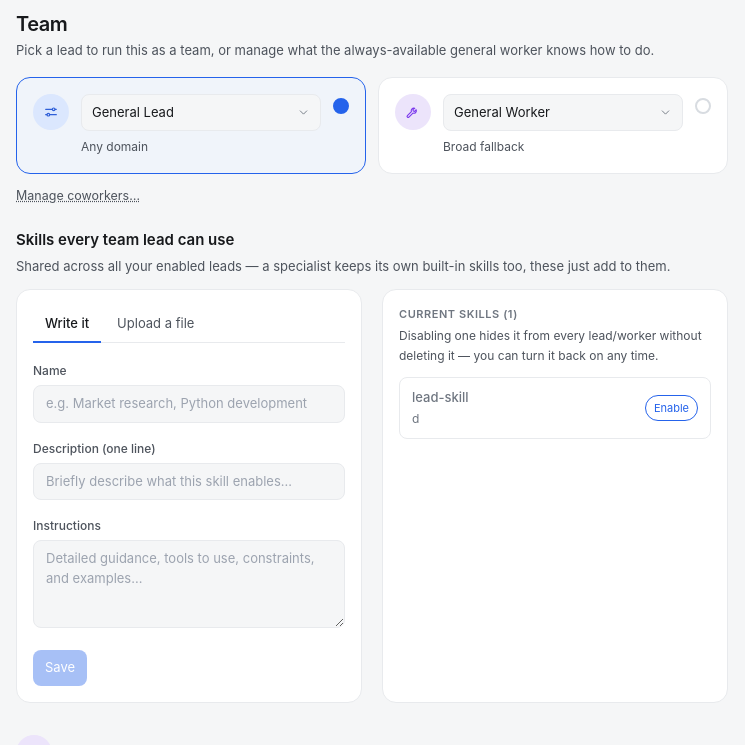
it: TeamPage › switching to the Worker role shows worker skills, not lead skills
The image size is (745, 745).
Expected: the text "lead-skill" is shown, [412,389,469,405]
Expected: the text "worker-skill" is not shown
Click the element with test id "team-role-worker": click(553, 125) [378,76,728,174]
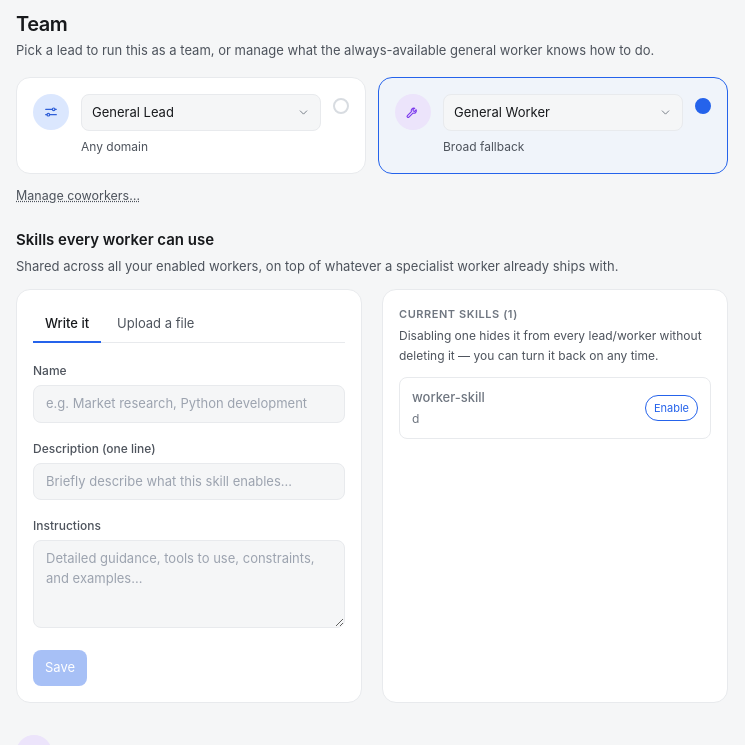
Expected: the text "worker-skill" is shown, [412,389,485,405]
Expected: the text "lead-skill" is gone
